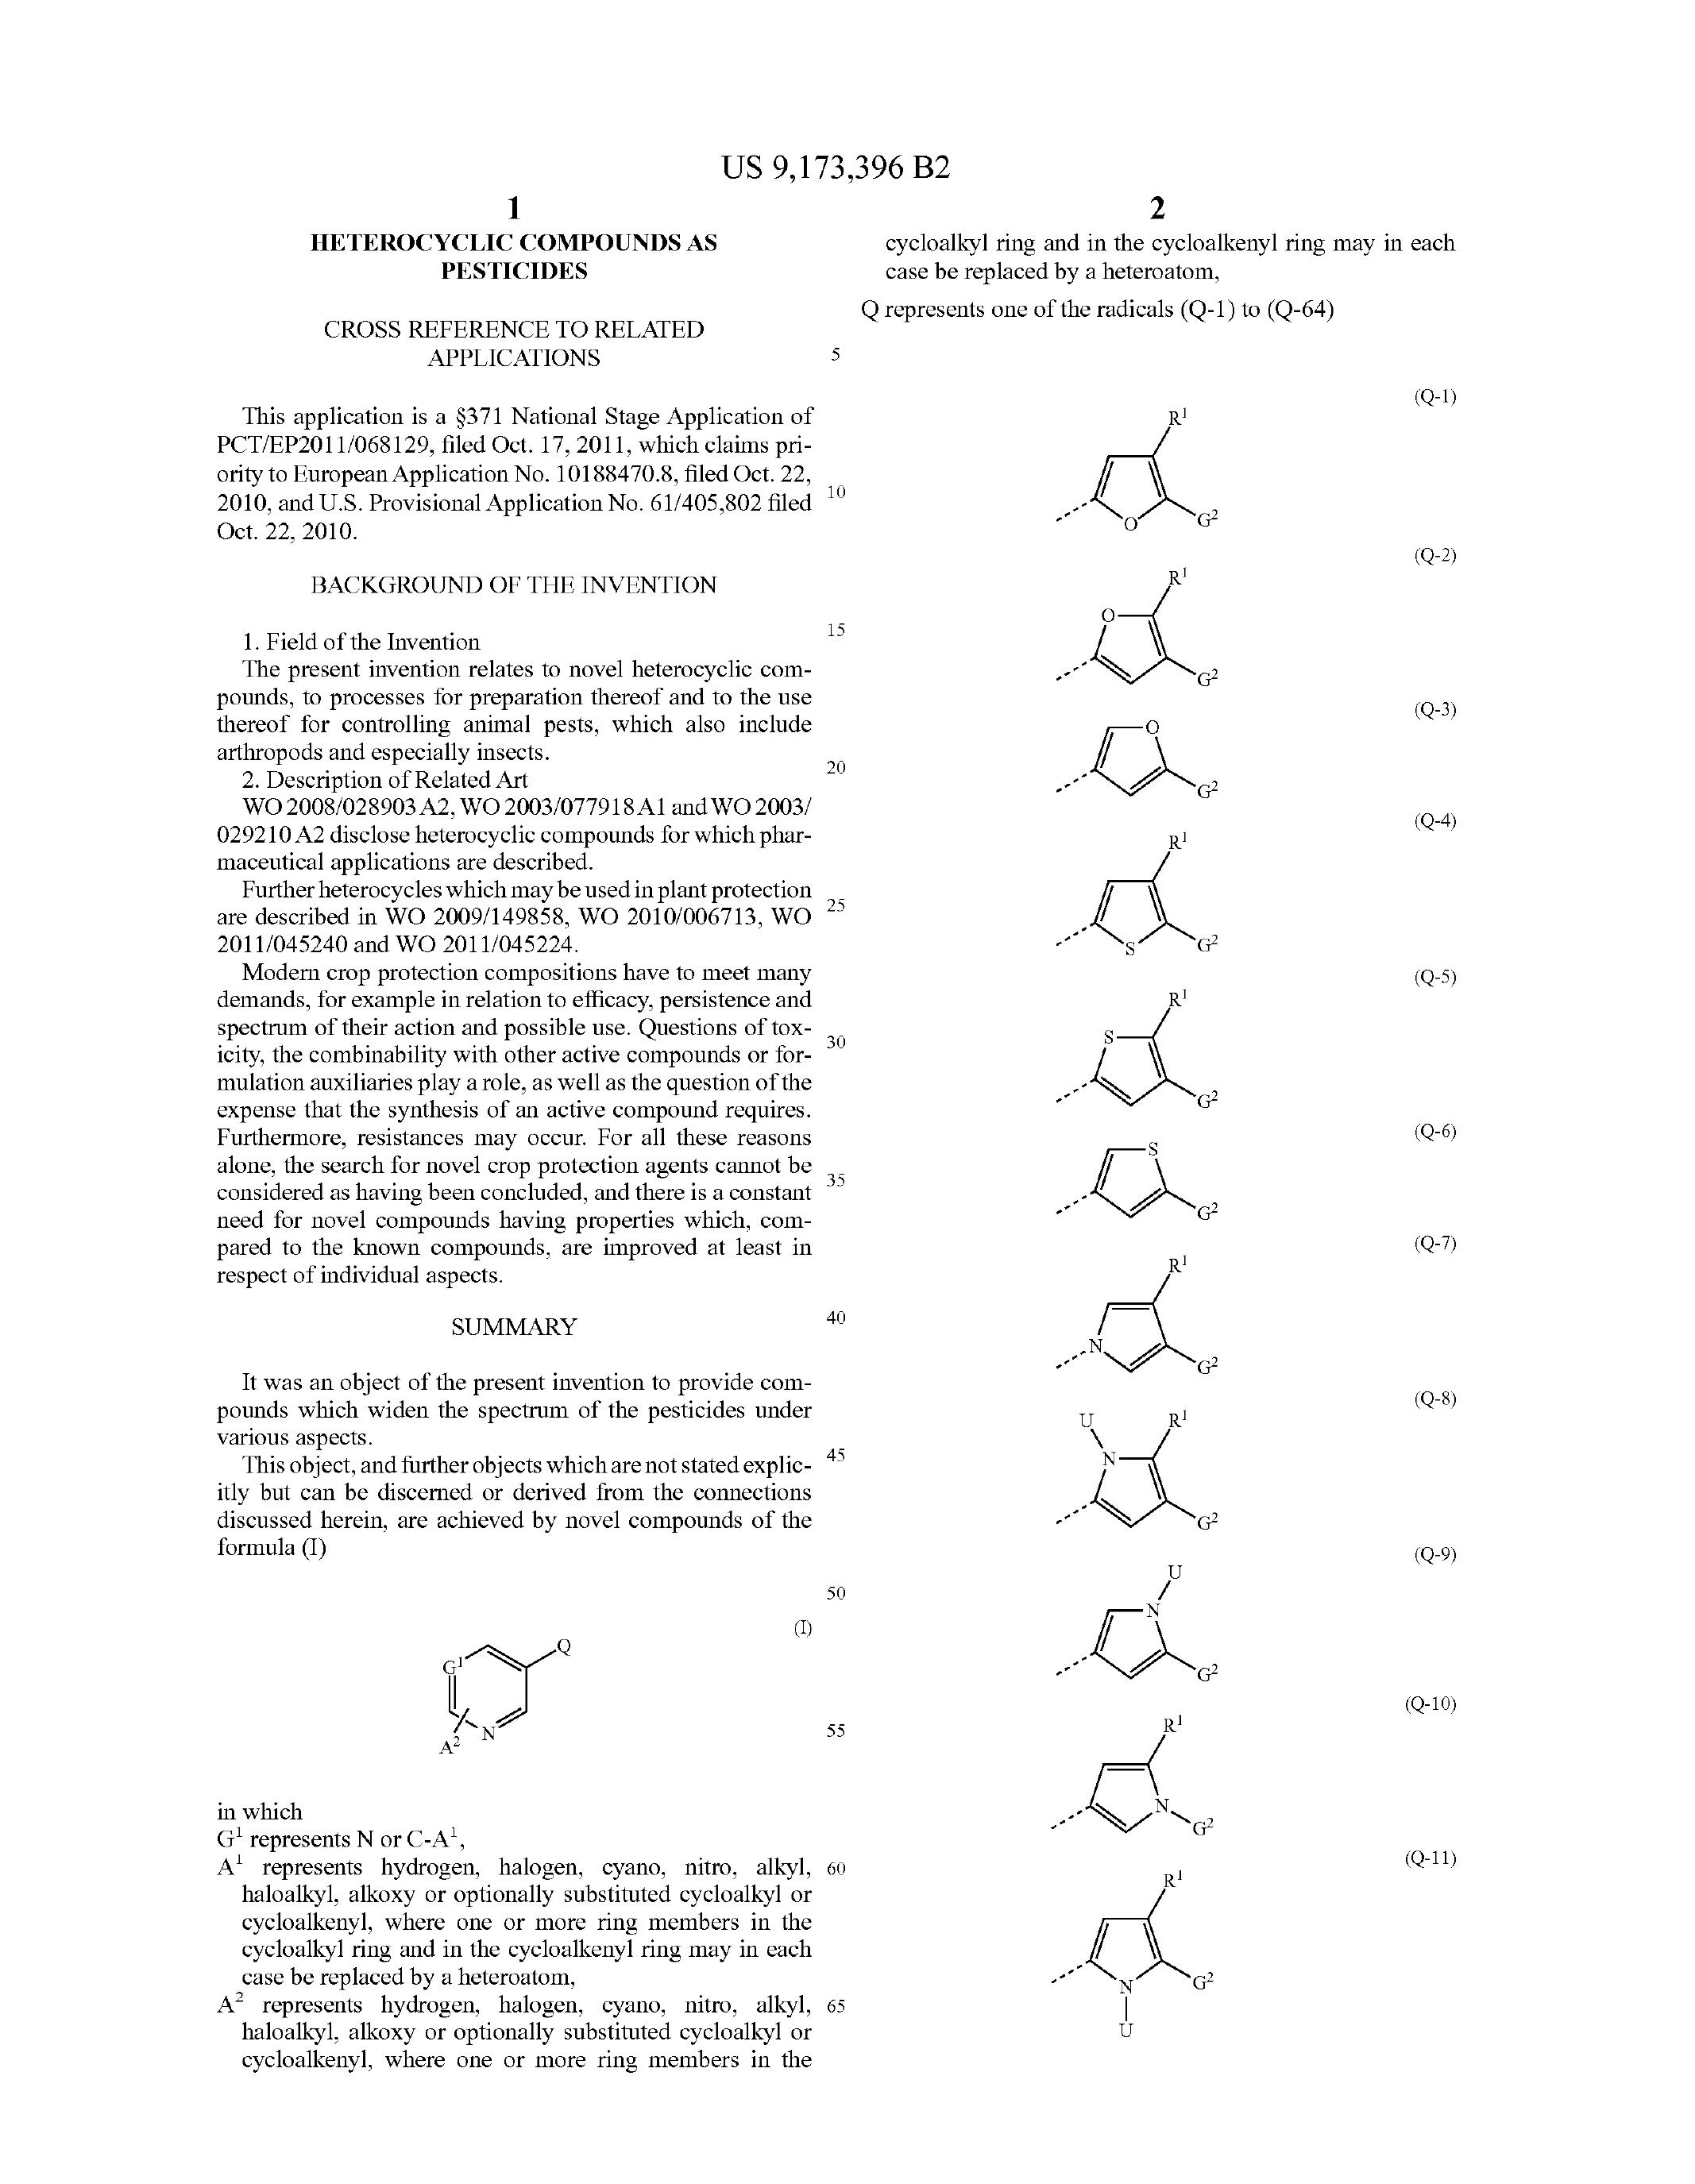markush-structures: (362, 1606, 718, 1787)
